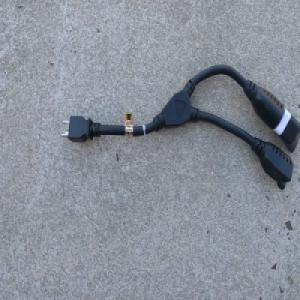Wire: (59, 64, 300, 192)
